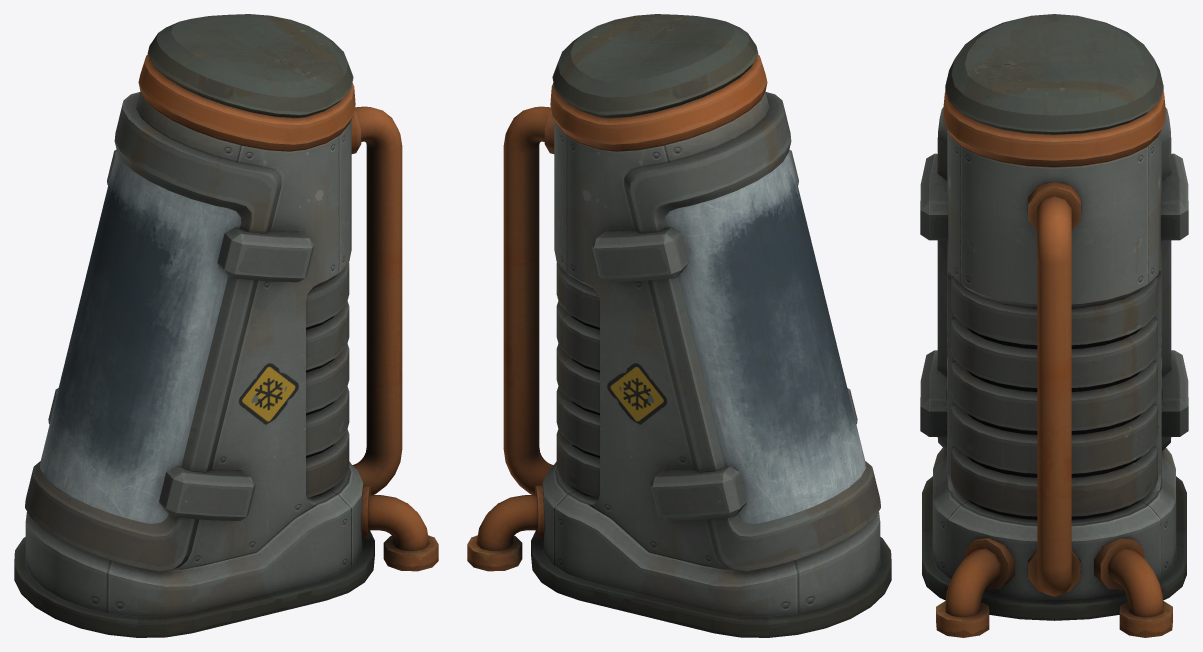
File: Cryopod.obj
3 renders of one model, left to right at view 1: azimuth 30°, elevation 25°; view 2: azimuth 150°, elevation 25°; view 3: azimuth 270°, elevation 25°, orthographic.
Parts seen in each view (by area): view 1: cryopod; view 2: cryopod; view 3: cryopod.
Boxes of the visible parts, x1,y1,x2,y2 form: cryopod: (14,14,438,637); cryopod: (467,14,891,637); cryopod: (920,14,1188,637).
Size of the model in its own units: 96.22 by 131 by 61.02.
Materials: 3 (3 with a texture image).
